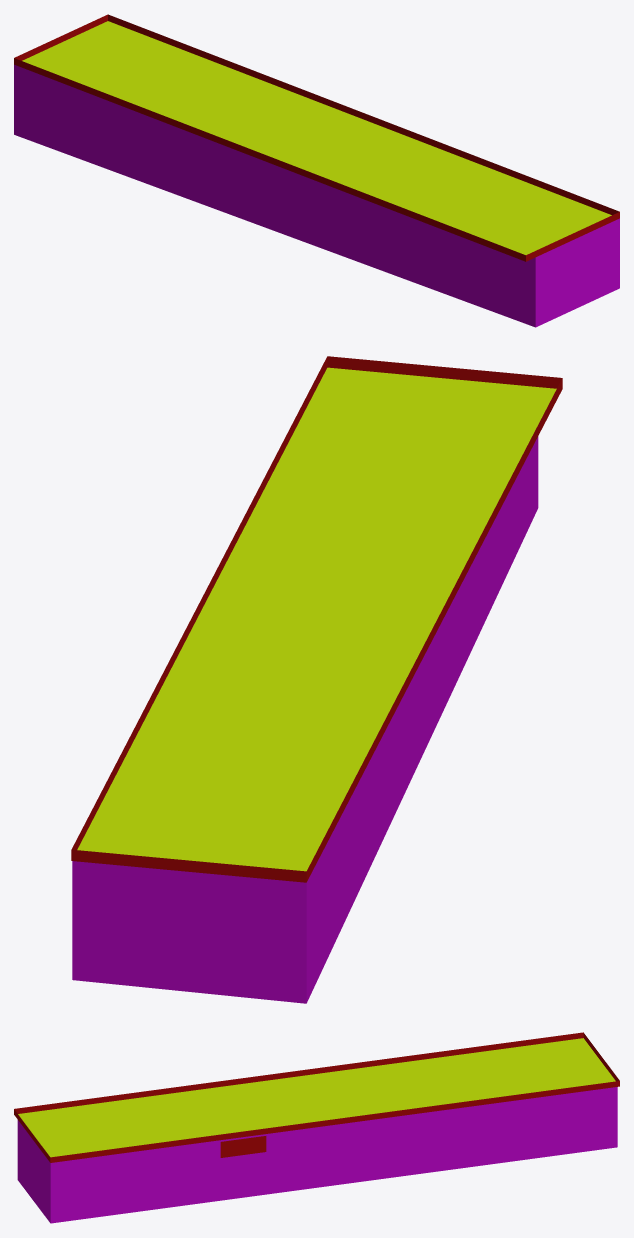
The model's file is bgj_193.glb.
3 views of the same model, one above another, from view 1: azimuth 30°, elevation 25°; view 2: azimuth 150°, elevation 25°; view 3: azimuth 270°, elevation 25° (orthographic). The views are drawn at different scales.
Parts seen in each view (by area): view 1: bgj_193; view 2: bgj_193; view 3: bgj_193.
Part boxes in pixels (x1,y1,x2,y2): bgj_193: (14,14,619,327); bgj_193: (71,356,562,1003); bgj_193: (14,1032,619,1223).
Size of the model in its own units: 16.54 by 4.08 by 33.9.
